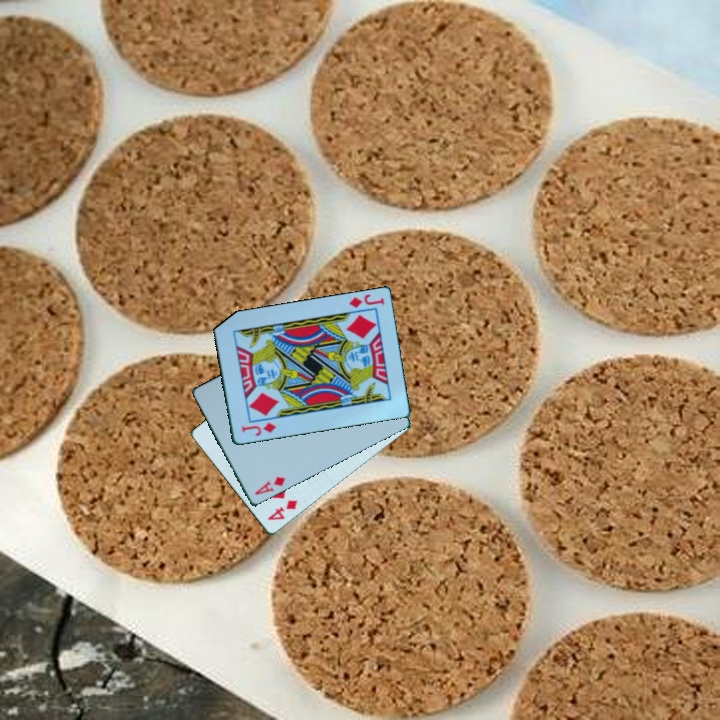4d: (264, 496, 300, 524)
Ad: (251, 473, 289, 498)
Jd: (345, 291, 387, 311), (238, 419, 279, 439)
